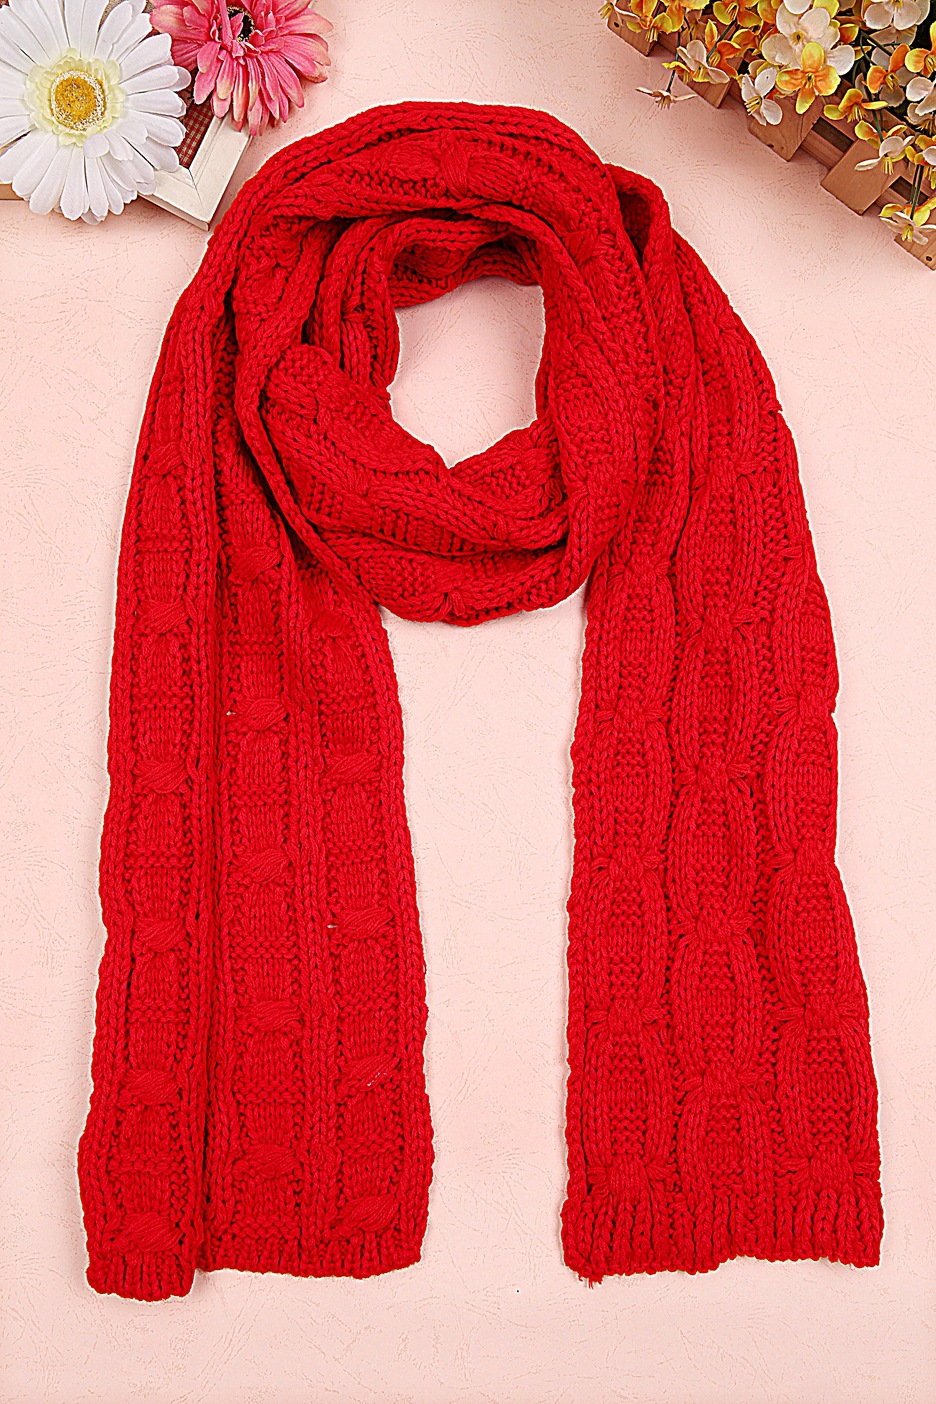flexible: (78, 99, 890, 1298)
